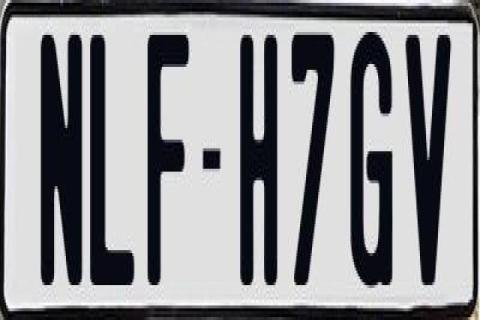0: (290, 32, 333, 296)
F: (144, 35, 188, 294)
G: (351, 29, 395, 288)
H: (240, 32, 284, 282)
L: (90, 29, 140, 297)
N: (41, 35, 83, 299)
V: (406, 32, 454, 288)
